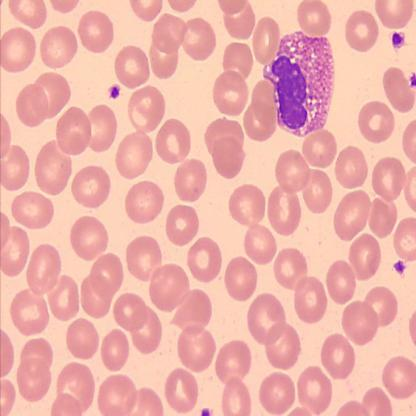Eosinophil: (263, 30, 338, 136)
